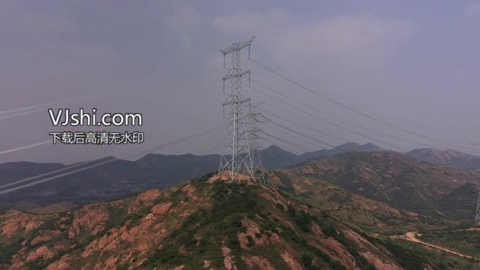tower_body: (213, 31, 276, 182)
tower_foot: (217, 147, 270, 180)
tower_head: (216, 34, 257, 55)
